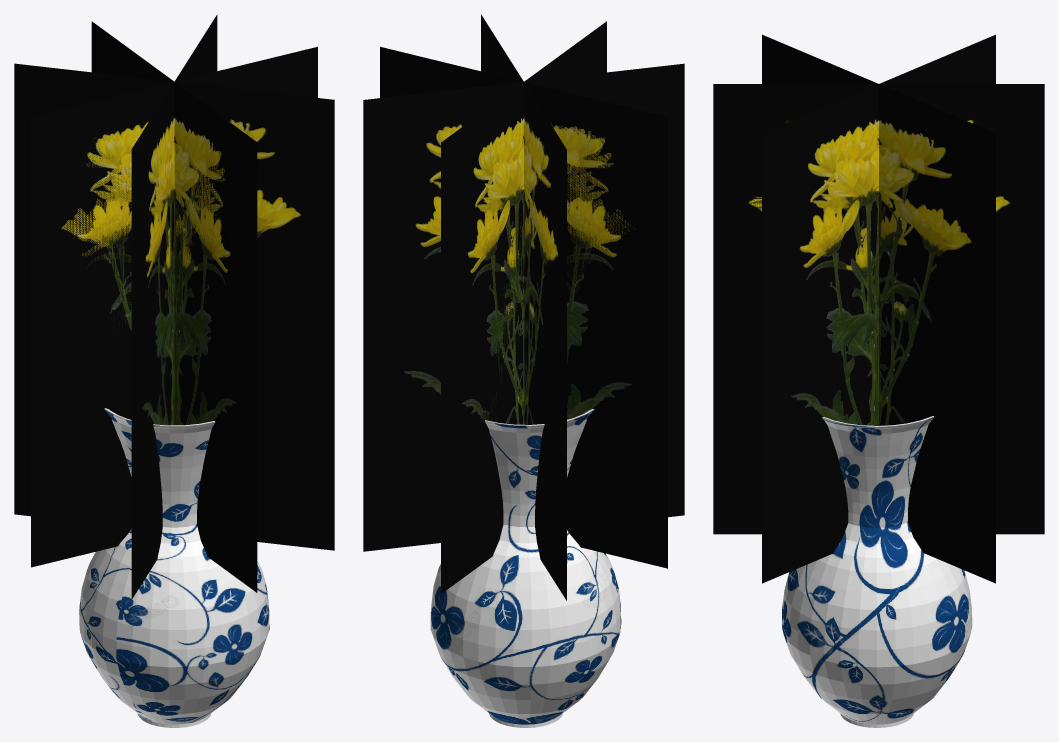
The model's file is flower.fbx.
3 renders of one model, left to right at view 1: azimuth 30°, elevation 25°; view 2: azimuth 150°, elevation 25°; view 3: azimuth 270°, elevation 25°, orthographic.
Visible parts, largest first — view 1: flower.007, flower.004, Cylinder, flower.002, flower, flower.001, flower.006; view 2: flower.005, flower, Cylinder, flower.006, flower.003, flower.004, flower.002; view 3: flower.001, flower.003, Cylinder, flower.002, flower.006.
Part boxes in pixels (x1,y1,x2,y2): flower.007: (14, 63, 334, 550); flower.004: (31, 105, 174, 567); Cylinder: (79, 408, 269, 727); flower.002: (174, 113, 257, 592); flower: (31, 46, 317, 339); flower.001: (131, 14, 217, 599); flower.006: (91, 21, 257, 298); flower.005: (363, 63, 684, 551); flower: (546, 90, 667, 568); Cylinder: (430, 409, 621, 727); flower.006: (441, 23, 604, 593); flower.003: (481, 14, 566, 600); flower.004: (380, 46, 667, 321); flower.002: (441, 21, 606, 593); flower.001: (762, 34, 995, 583); flower.003: (762, 34, 995, 583); Cylinder: (782, 416, 972, 727); flower.002: (713, 84, 1044, 534); flower.006: (713, 84, 1043, 534).
Size of the model in its own units: 2107 by 4413 by 2107.
4 materials, 2 textured.
